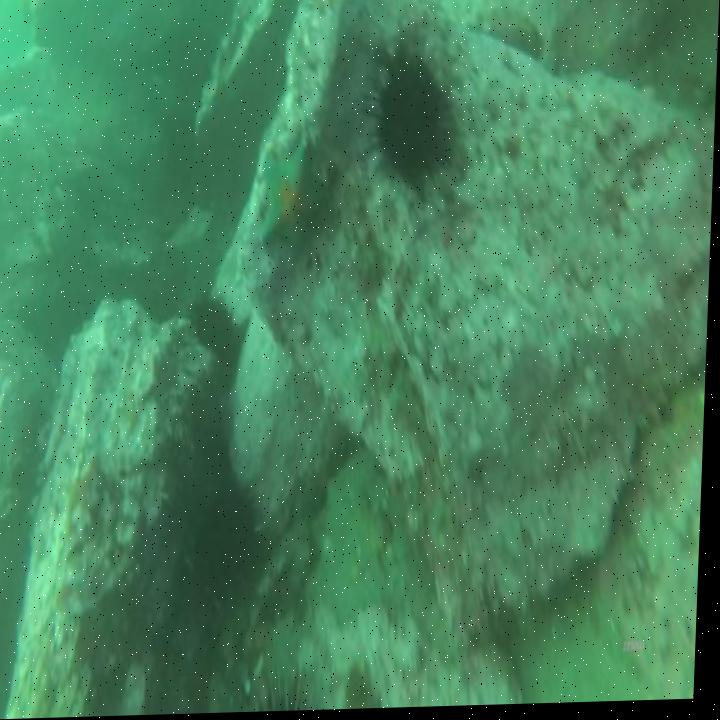echinus: (359, 46, 462, 198), (206, 483, 265, 573), (186, 288, 245, 369), (256, 660, 322, 713)
starfish: (257, 142, 328, 259)
